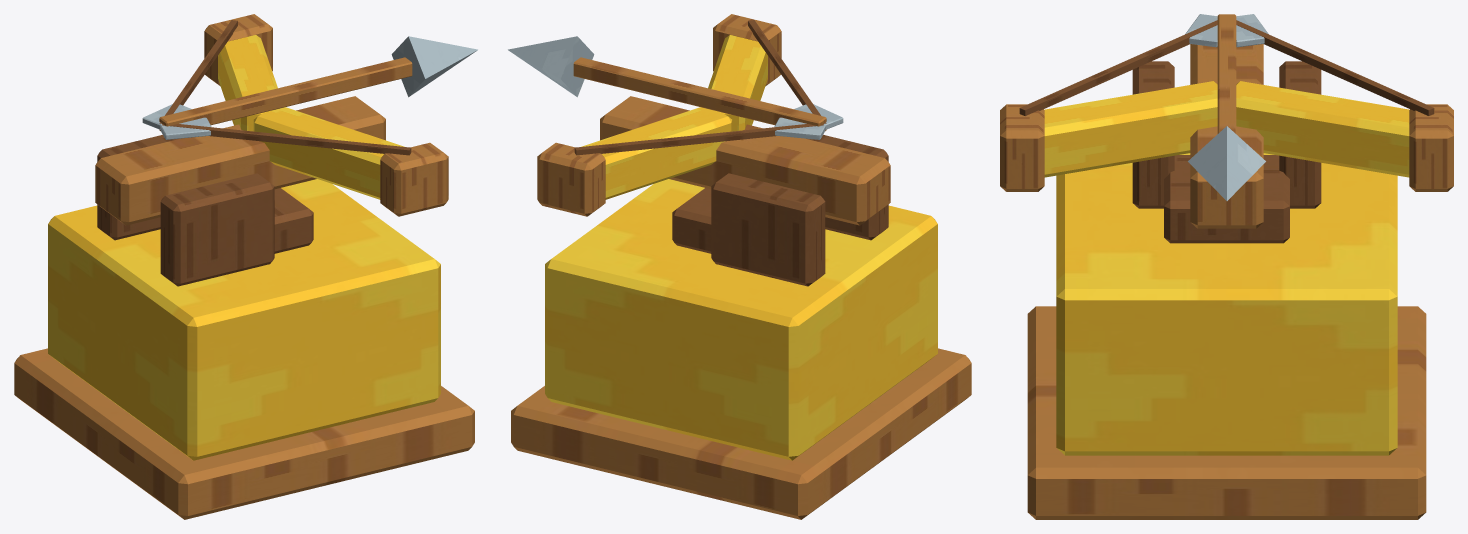
Rendered from arrow.glb.
The picture shows the model from 3 angles, left to right: view 1: azimuth 30°, elevation 25°; view 2: azimuth 150°, elevation 25°; view 3: azimuth 270°, elevation 25°; orthographic projection. The views are drawn at different scales.
Parts seen in each view (by area): view 1: fixed-geometry, crossbow-geometry, arrow-geometry, string-right, string-left; view 2: fixed-geometry, crossbow-geometry, arrow-geometry, string-left, string-right; view 3: fixed-geometry, crossbow-geometry, arrow-geometry, string-left, string-right.
Boxes of the visible parts, x1,y1,x2,y2 form: fixed-geometry: (14,179,474,519); crossbow-geometry: (95,14,448,286); arrow-geometry: (142,36,477,139); string-right: (162,124,411,155); string-left: (159,20,237,123); fixed-geometry: (511,179,971,519); crossbow-geometry: (537,14,890,286); arrow-geometry: (508,36,843,139); string-left: (574,124,823,155); string-right: (748,20,826,123); fixed-geometry: (1027,153,1426,519); crossbow-geometry: (1000,44,1453,243); arrow-geometry: (1185,14,1268,200); string-left: (1236,20,1434,115); string-right: (1019,20,1217,115).
Size of the model in its own units: 0.98 by 0.855 by 0.865.
1 material, 1 textured.
